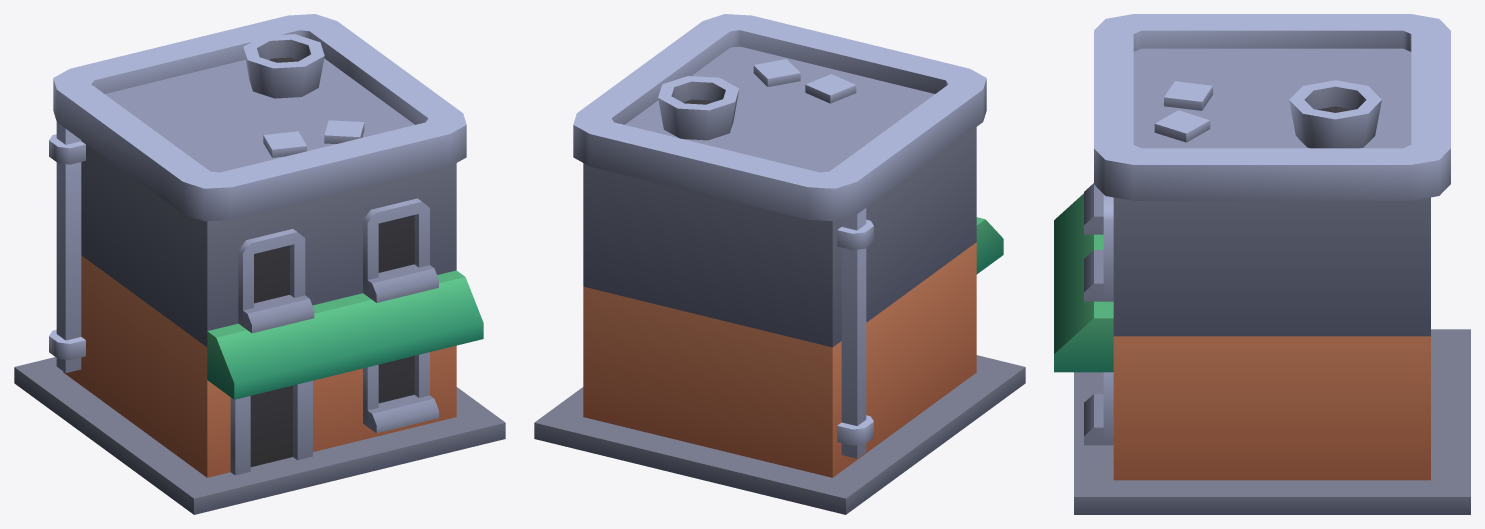
The model's file is building-small-d.glb.
3 renders of one model, left to right at view 1: azimuth 30°, elevation 25°; view 2: azimuth 150°, elevation 25°; view 3: azimuth 270°, elevation 25°, orthographic. The views are drawn at different scales.
Visible parts, largest first — view 1: building-small-d; view 2: building-small-d; view 3: building-small-d.
Boxes of the visible parts, x1,y1,x2,y2 form: building-small-d: (14, 14, 505, 514); building-small-d: (534, 14, 1025, 514); building-small-d: (1054, 14, 1470, 514).
Bounding box in the file's own units: 1 × 1 × 1.05.
1 material, 1 textured.
